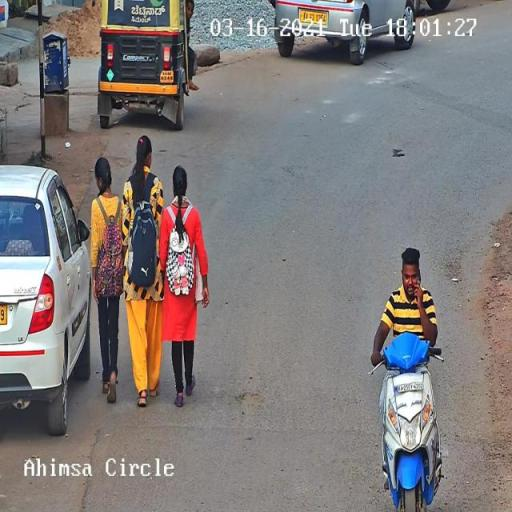using mobile: (412, 268, 425, 302)
